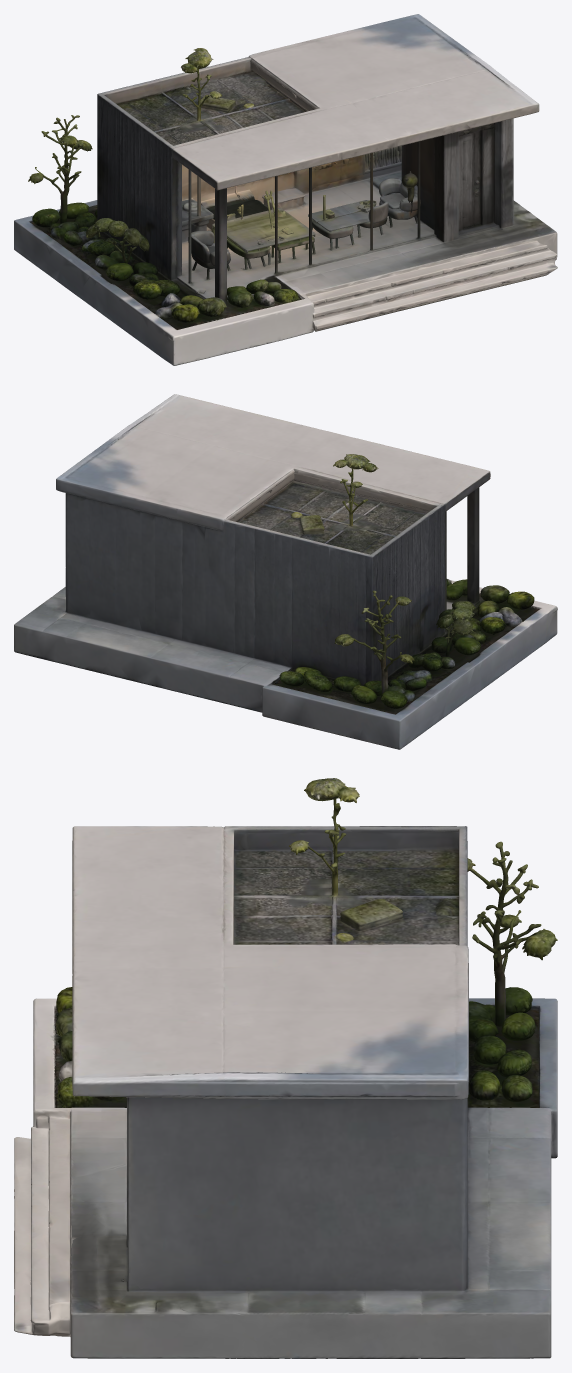
The model's file is home-main.glb.
3 renders of one model, top to bottom at view 1: azimuth 30°, elevation 25°; view 2: azimuth 150°, elevation 25°; view 3: azimuth 270°, elevation 25°, orthographic. The views are drawn at different scales.
Parts seen in each view (by area): view 1: tripo_node_c06b8268-ff60-46f6-a72b-e04c506ed663; view 2: tripo_node_c06b8268-ff60-46f6-a72b-e04c506ed663; view 3: tripo_node_c06b8268-ff60-46f6-a72b-e04c506ed663.
Boxes of the visible parts, x1,y1,x2,y2 form: tripo_node_c06b8268-ff60-46f6-a72b-e04c506ed663: (14, 14, 557, 365); tripo_node_c06b8268-ff60-46f6-a72b-e04c506ed663: (14, 394, 557, 749); tripo_node_c06b8268-ff60-46f6-a72b-e04c506ed663: (14, 778, 557, 1358).
Bounding box in the file's own units: 0.9672 × 0.514 × 0.7027.
1 material, 1 textured.
